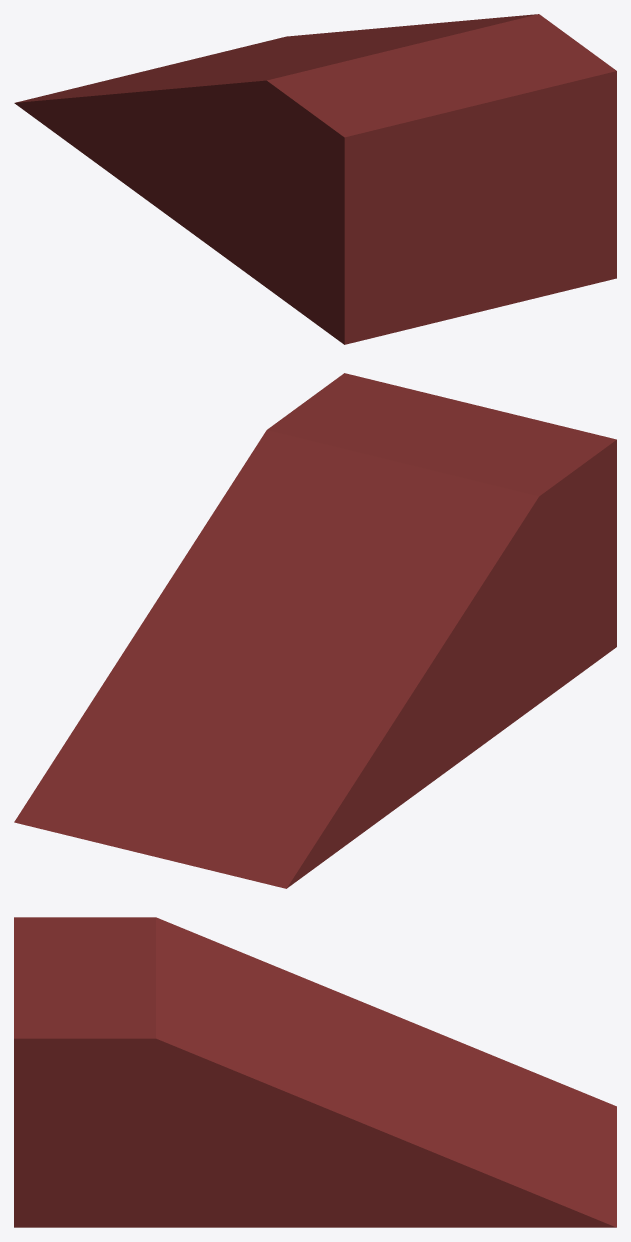
The model's file is ramp.fbx.
The picture shows the model from 3 angles, top to bottom: view 1: azimuth 30°, elevation 25°; view 2: azimuth 150°, elevation 25°; view 3: azimuth 270°, elevation 25°; orthographic projection. The views are drawn at different scales.
Parts seen in each view (by area): view 1: Cube; view 2: Cube; view 3: Cube.
Part boxes in pixels (x1=…): Cube: x1=14, y1=14, x2=616, y2=344; Cube: x1=14, y1=373, x2=616, y2=888; Cube: x1=14, y1=917, x2=616, y2=1227.
Size of the model in its own units: 130 by 94.39 by 273.
